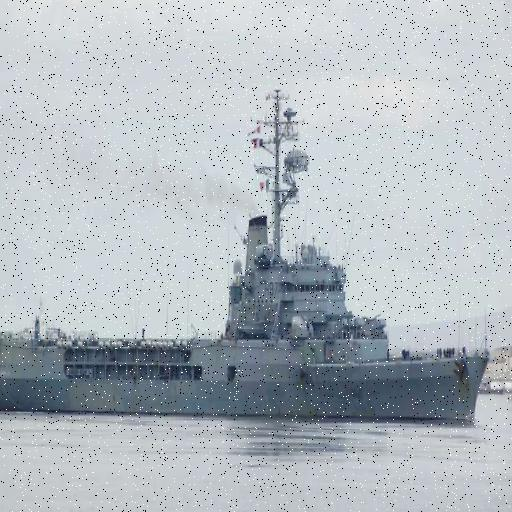Portanaves: (1, 76, 496, 427)
